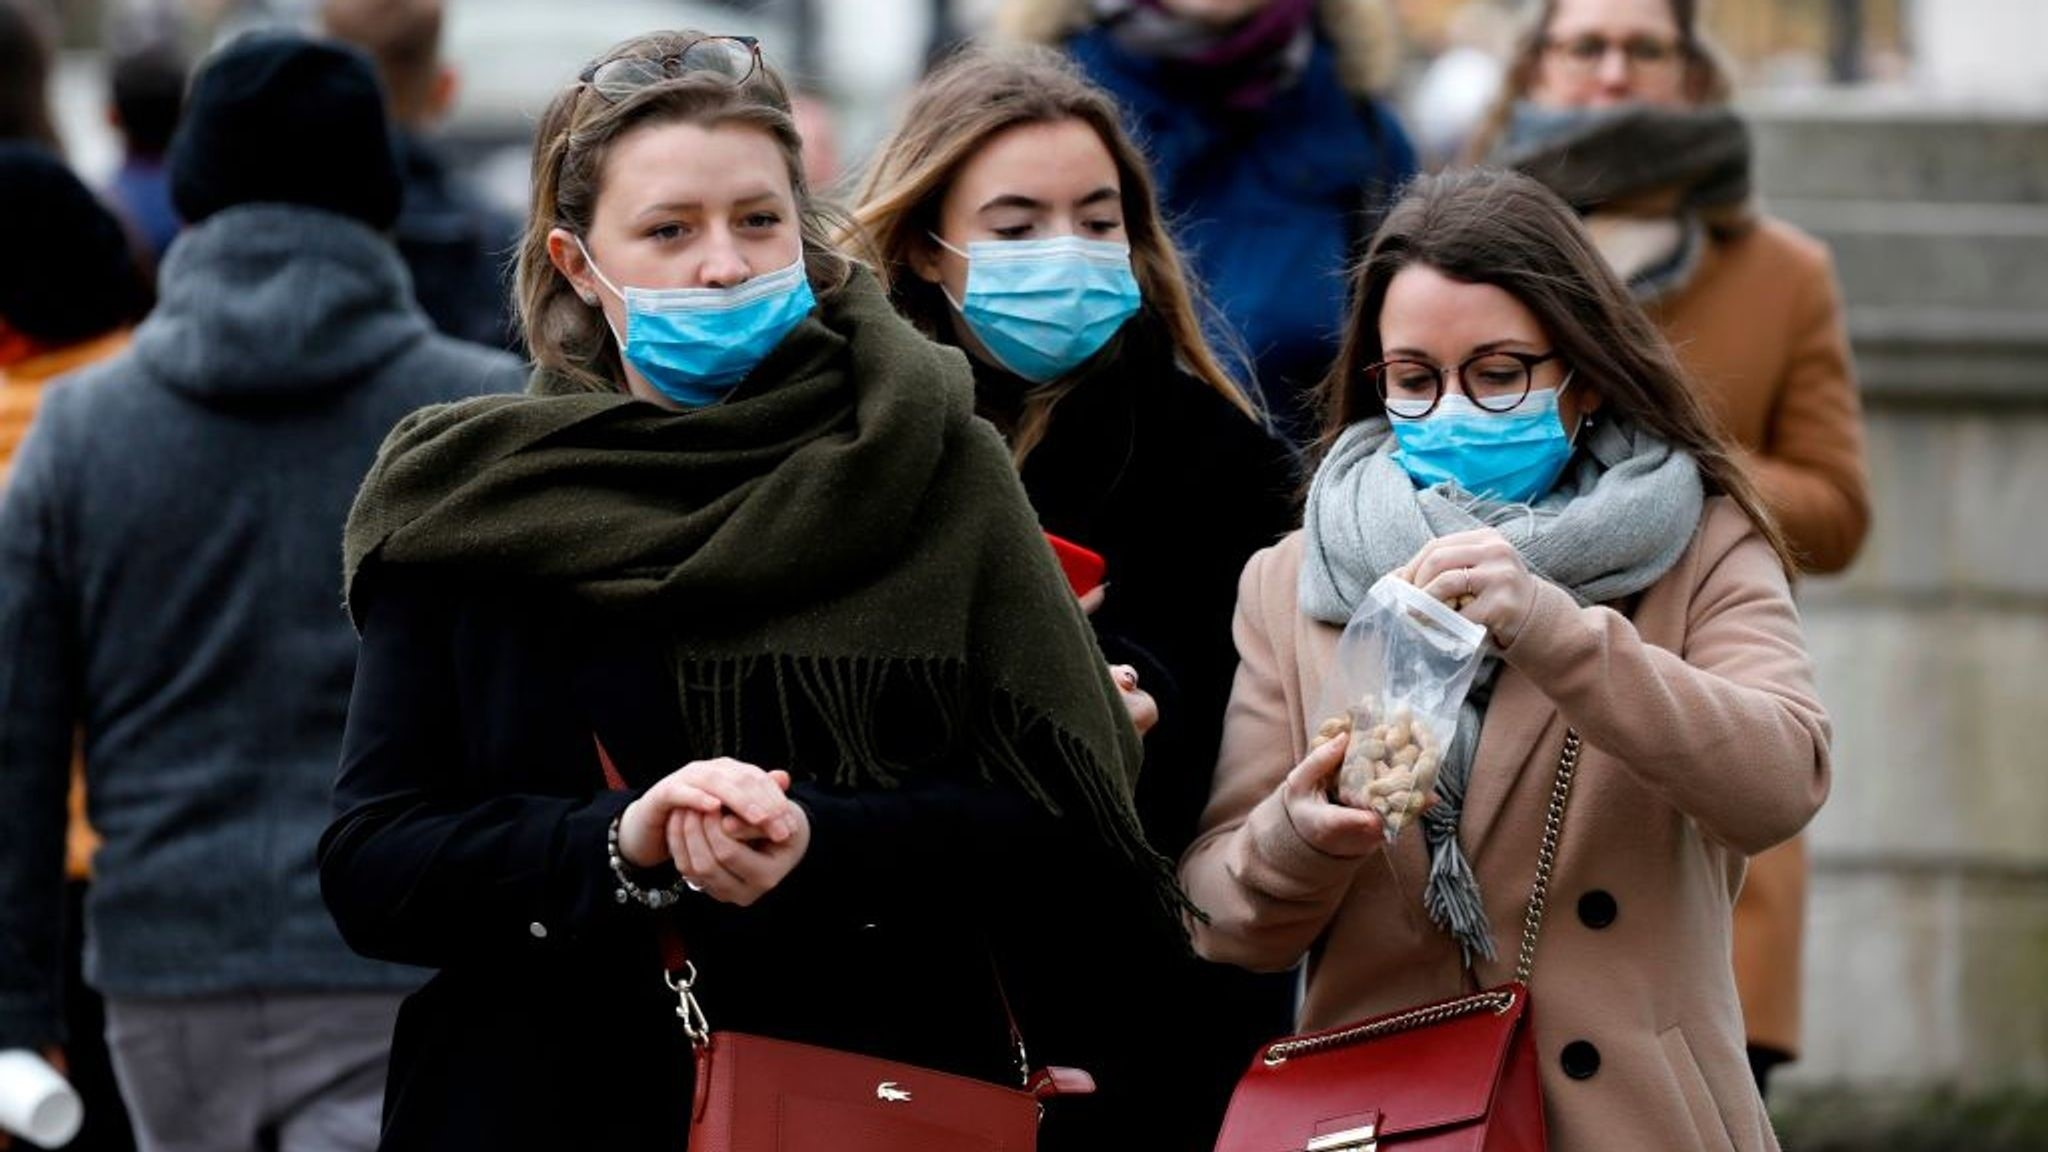face_with_mask: (541, 22, 841, 411), (904, 43, 1167, 383), (1364, 169, 1619, 512)
